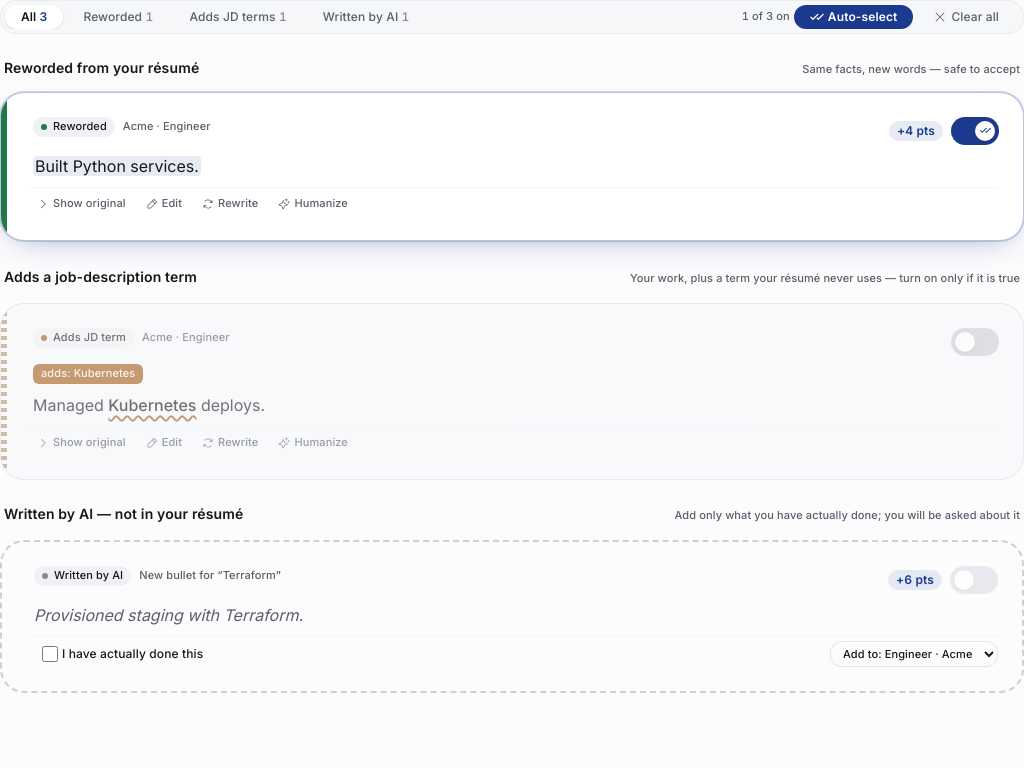
Scenario: PointsLedger › filters to one group
The image size is (1024, 768).
What coordinates should you click on to do the following:
click the button "Written by AI 1"
I would click on:
 (366, 17)
Its box is [307,5,426,29].
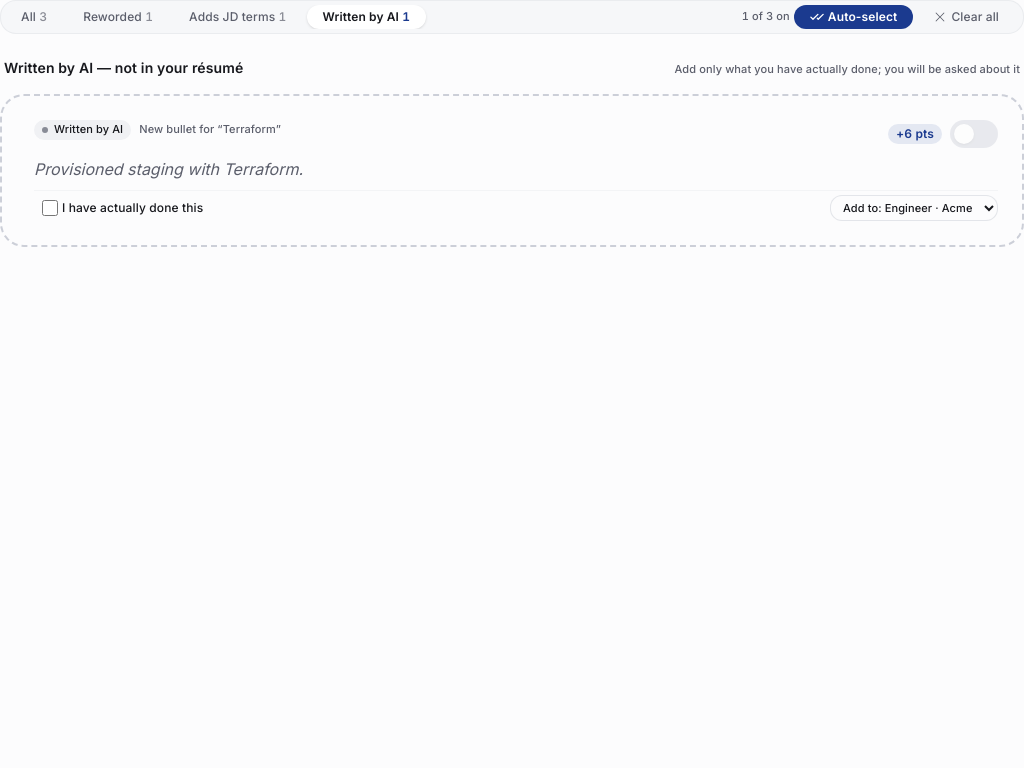
expect the element "Written by AI" is shown: met, box [0,58,1023,247]
expect the heading "Reworded from your résumé" is gone: met
